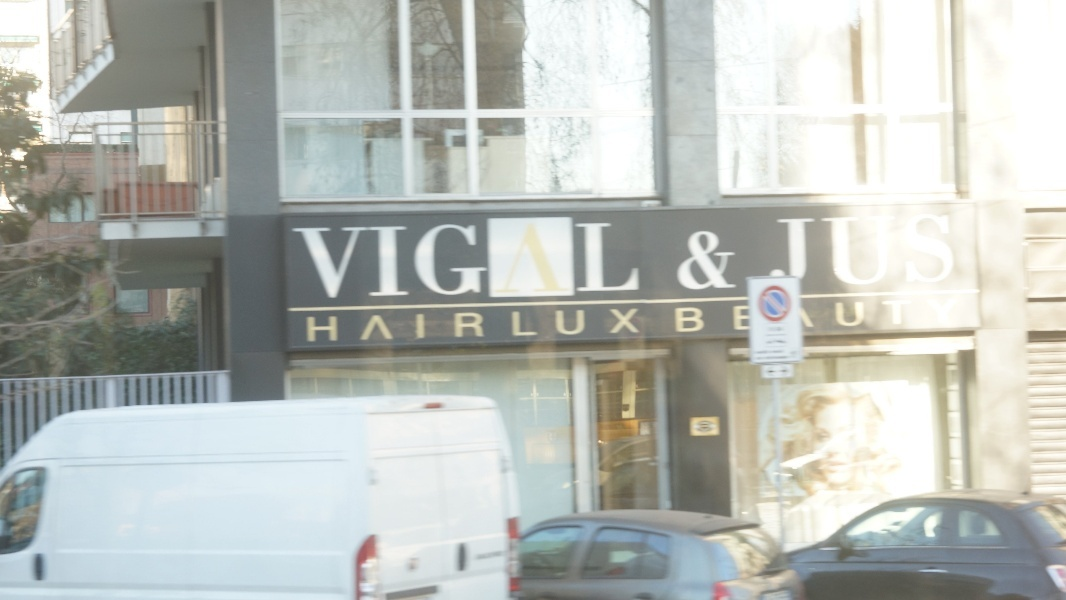text: (305, 220, 320, 301), (321, 220, 336, 301), (337, 220, 352, 301), (353, 220, 368, 301), (369, 220, 384, 301), (385, 220, 400, 301), (401, 220, 416, 301), (417, 220, 432, 301), (433, 220, 448, 301), (449, 220, 464, 301), (465, 220, 480, 301), (481, 220, 496, 301), (497, 220, 512, 301), (513, 220, 528, 301), (529, 220, 544, 301), (545, 220, 560, 301), (561, 220, 576, 301), (577, 220, 592, 301), (593, 220, 608, 301), (609, 220, 624, 301), (625, 220, 640, 301), (785, 214, 800, 290), (801, 214, 816, 290), (817, 214, 832, 290), (833, 214, 848, 290), (849, 214, 864, 290), (865, 214, 880, 290), (881, 214, 896, 290), (897, 214, 912, 290), (913, 214, 928, 290), (929, 214, 944, 290), (291, 220, 304, 301), (689, 231, 704, 292), (705, 231, 720, 292), (721, 231, 736, 292), (945, 214, 955, 290), (775, 214, 784, 290), (305, 307, 320, 345), (321, 307, 336, 345), (337, 307, 352, 345), (353, 307, 368, 345), (369, 307, 384, 345), (385, 307, 400, 345), (401, 307, 416, 345), (417, 307, 432, 345), (433, 307, 448, 345), (449, 307, 464, 345), (465, 307, 480, 345), (481, 307, 496, 345), (497, 307, 512, 345), (513, 307, 528, 345), (529, 307, 544, 345), (545, 307, 560, 345), (561, 307, 576, 345), (577, 307, 592, 345), (593, 307, 608, 345), (609, 307, 624, 345), (625, 307, 640, 345), (849, 299, 864, 329), (865, 299, 880, 329), (881, 299, 896, 329), (897, 299, 912, 329), (913, 299, 928, 329), (929, 299, 944, 329), (945, 299, 960, 329), (689, 307, 704, 335), (835, 299, 848, 329), (675, 307, 688, 335), (737, 231, 741, 292), (641, 220, 643, 301), (769, 354, 784, 363), (755, 354, 768, 363), (769, 326, 785, 333), (785, 354, 797, 363), (769, 340, 784, 347), (769, 350, 785, 355), (753, 350, 768, 355), (705, 424, 715, 429), (695, 424, 704, 429), (641, 307, 642, 345), (705, 307, 706, 335), (766, 340, 768, 347), (785, 340, 786, 347)
